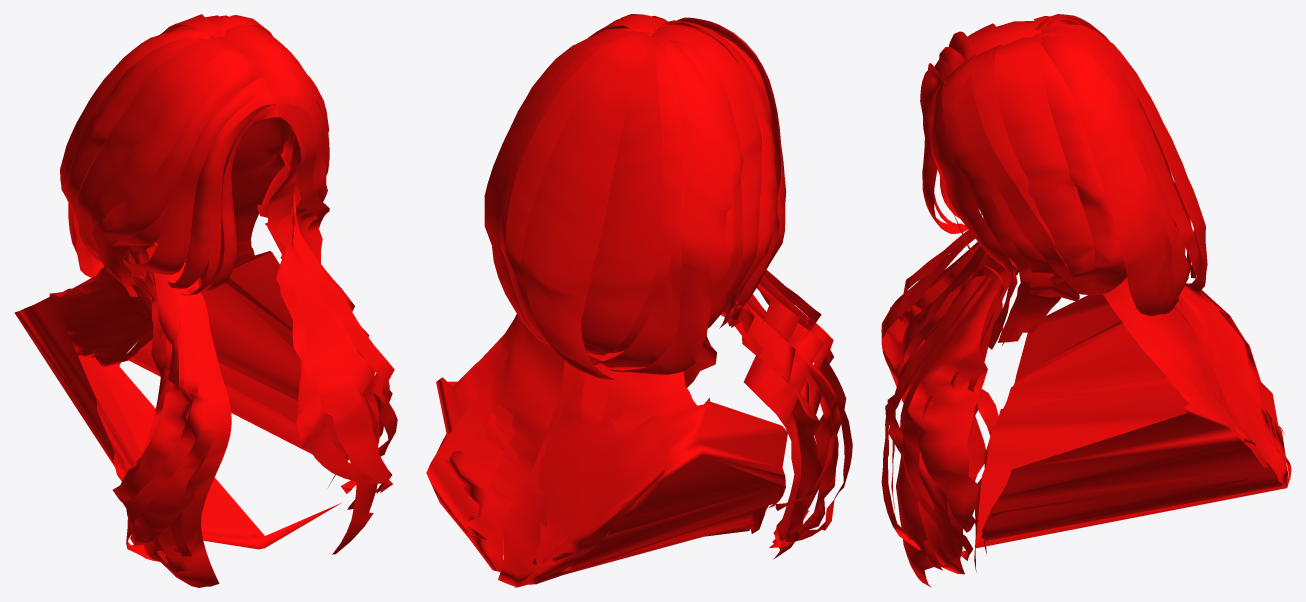
The model's file is elvs_daisy_hair_M.glb.
The picture shows the model from 3 angles, left to right: view 1: azimuth 30°, elevation 25°; view 2: azimuth 150°, elevation 25°; view 3: azimuth 270°, elevation 25°; orthographic projection. The views are drawn at different scales.
Size of the model in its own units: 0.3214 by 0.5795 by 0.4099.
1 material, 1 textured.
